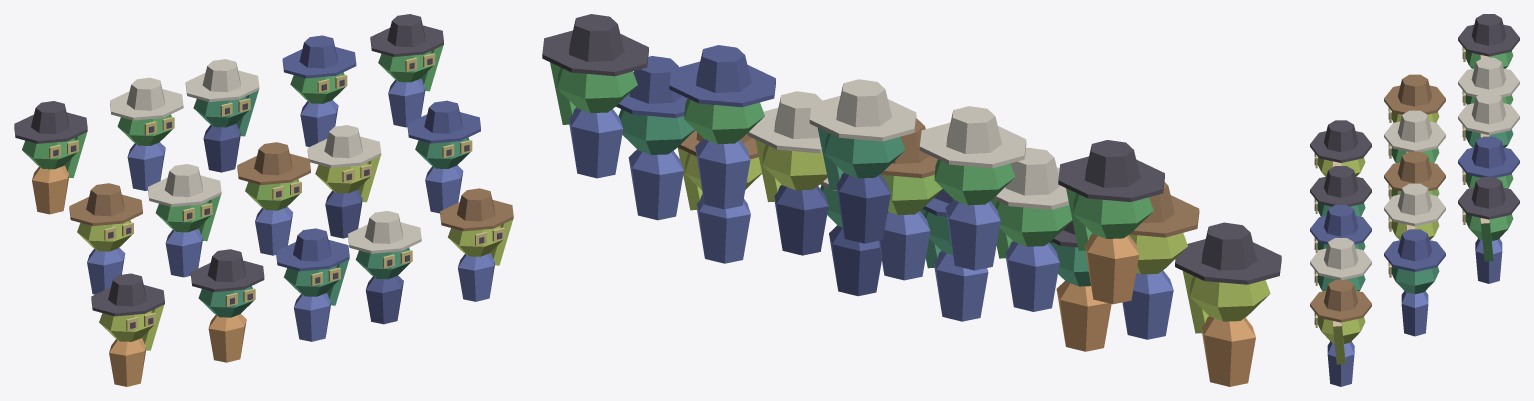
The model's file is crowd.glb.
3 views of the same model, side by side, from view 1: azimuth 30°, elevation 25°; view 2: azimuth 150°, elevation 25°; view 3: azimuth 270°, elevation 25° (orthographic). The views are drawn at different scales.
Visible parts, largest first — view 1: crowd; view 2: crowd; view 3: crowd.
Boxes of the visible parts, x1,y1,x2,y2 form: crowd: [14, 14, 513, 386]; crowd: [542, 14, 1281, 386]; crowd: [1310, 14, 1519, 386].
Bounding box in the file's own units: 6.28 × 3.02 × 2.84.
